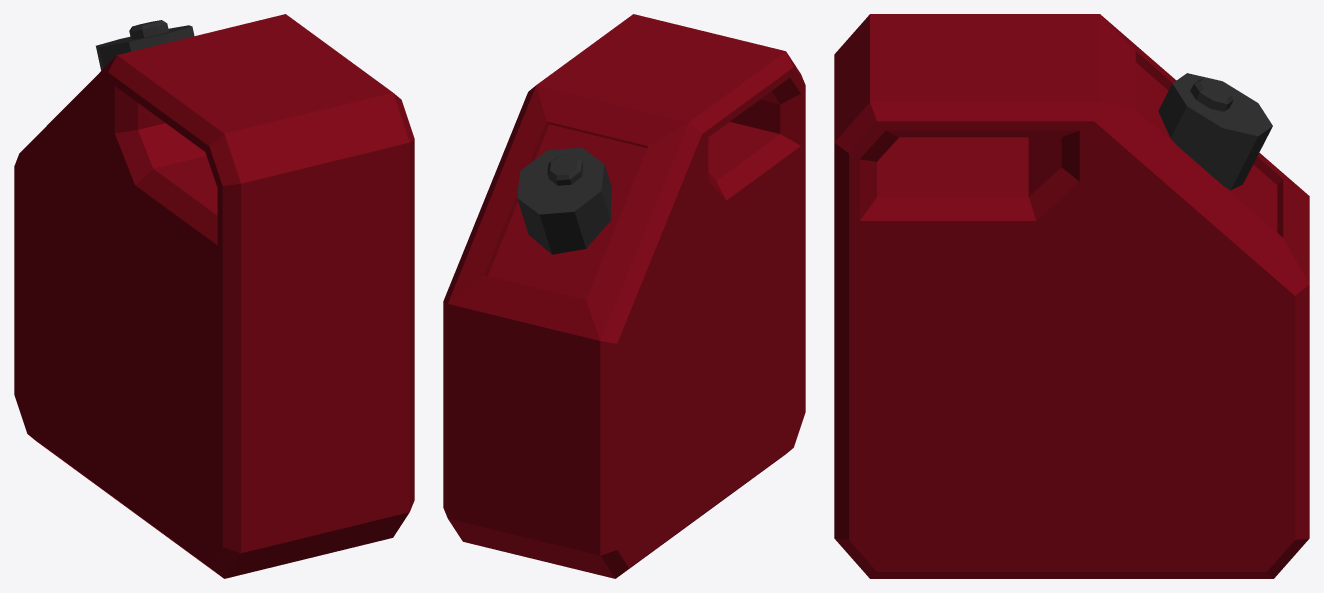
File: FuelCanister.fbx
3 renders of one model, left to right at view 1: azimuth 30°, elevation 25°; view 2: azimuth 150°, elevation 25°; view 3: azimuth 270°, elevation 25°, orthographic. The views are drawn at different scales.
Visible parts, largest first — view 1: Cube; view 2: Cube; view 3: Cube.
Part boxes in pixels (x1,y1,x2,y2): Cube: (14, 14, 414, 578); Cube: (443, 14, 805, 578); Cube: (834, 14, 1309, 578).
Size of the model in its own units: 16 by 35.42 by 32.
